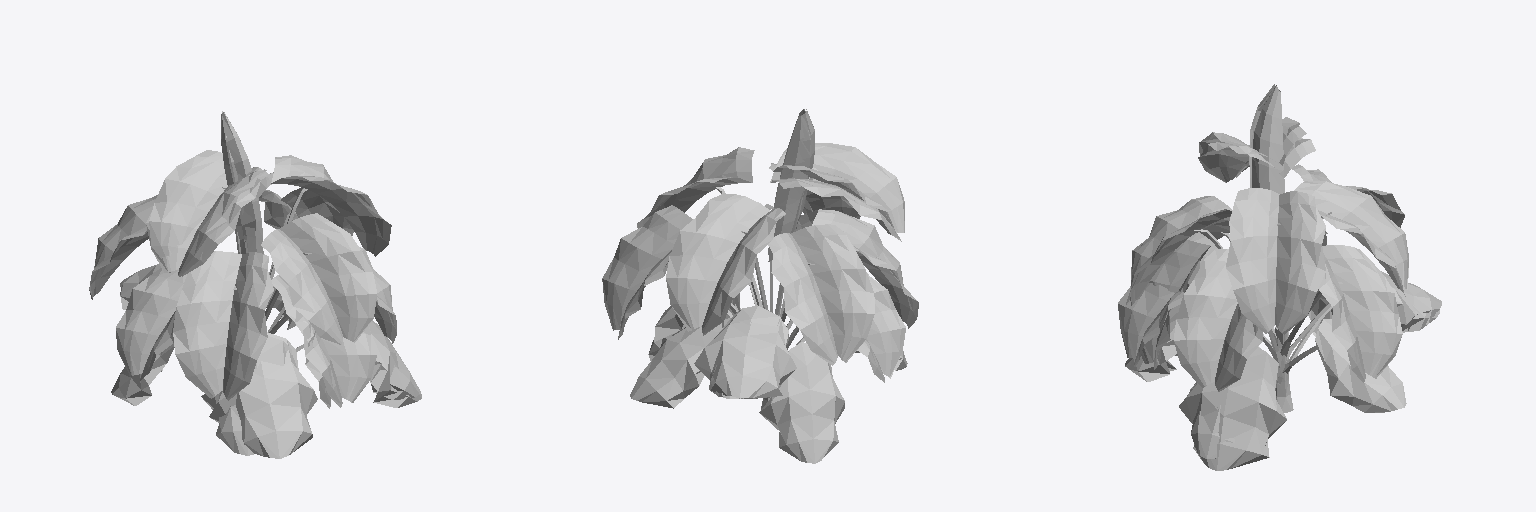
Rendered from Alocasia macrorrhiza 01_LOD1.obj.
3 renders of one model, left to right at view 1: azimuth 30°, elevation 25°; view 2: azimuth 150°, elevation 25°; view 3: azimuth 270°, elevation 25°, orthographic.
Visible parts, largest first — view 1: tree; view 2: tree; view 3: tree.
Part boxes in pixels (bbox=[...]): tree: bbox=[89, 111, 421, 458]; tree: bbox=[602, 109, 918, 463]; tree: bbox=[1118, 84, 1441, 470].
Size of the model in its own units: 211 by 230 by 219.